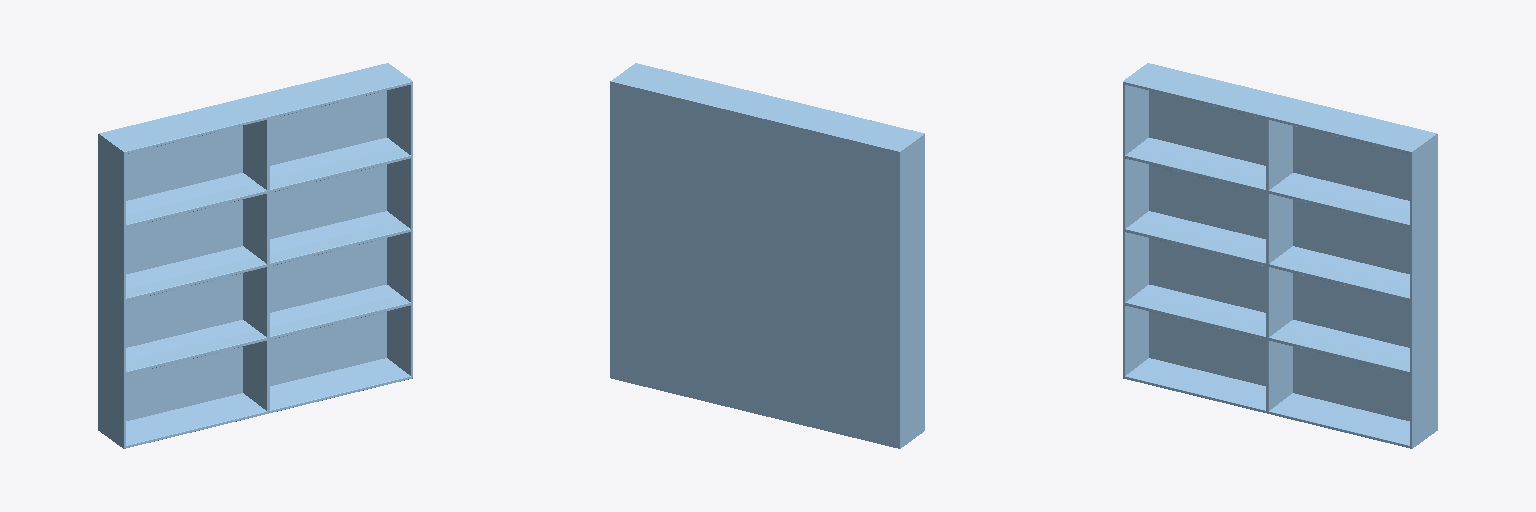
Rendered from 修改书架.obj.
3 renders of one model, left to right at view 1: azimuth 30°, elevation 25°; view 2: azimuth 150°, elevation 25°; view 3: azimuth 330°, elevation 25°, orthographic.
Visible parts, largest first — view 1: 立方体.1_3_1, 立方体.1_0_1, 立方体.1_3, 立方体.1_0, 立方体.1_2_1, 立方体.1_1_1, 立方体.1_2, 立方体.1_1; view 2: 立方体.1_3, 立方体.1_3_1, 立方体.1_0, 立方体.1_1, 立方体.1_2, 立方体.1_0_1, 立方体.1_2_1, 立方体.1_1_1; view 3: 立方体.1_3, 立方体.1_0, 立方体.1_3_1, 立方体.1_0_1, 立方体.1_1, 立方体.1_2, 立方体.1_2_1, 立方体.1_1_1.
Part boxes in pixels (x1,y1,x2,y2): 立方体.1_3_1: (243,63,412,192); 立方体.1_0_1: (243,295,412,413); 立方体.1_3: (98,98,269,227); 立方体.1_0: (98,330,267,448); 立方体.1_2_1: (243,148,412,265); 立方体.1_1_1: (243,222,412,339); 立方体.1_2: (98,183,269,301); 立方体.1_1: (98,257,269,374); 立方体.1_3: (754,98,924,226); 立方体.1_3_1: (610,63,777,192); 立方体.1_0: (754,340,924,448); 立方体.1_1: (754,264,924,374); 立方体.1_2: (754,190,924,300); 立方体.1_0_1: (610,302,756,412); 立方体.1_2_1: (610,155,756,264); 立方体.1_1_1: (610,229,756,338); 立方体.1_3: (1123,63,1293,192); 立方体.1_0: (1123,295,1292,412); 立方体.1_3_1: (1266,99,1437,227); 立方体.1_0_1: (1267,330,1437,448); 立方体.1_1: (1123,222,1292,339); 立方体.1_2: (1123,148,1292,265); 立方体.1_2_1: (1268,183,1437,301); 立方体.1_1_1: (1268,257,1437,374).
Size of the model in its own units: 198 by 194 by 30.